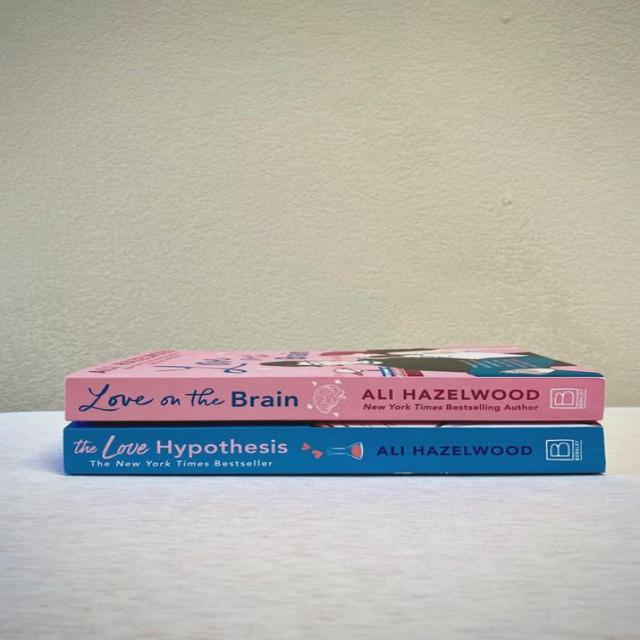book: (66, 426, 605, 474), (66, 376, 608, 421)
